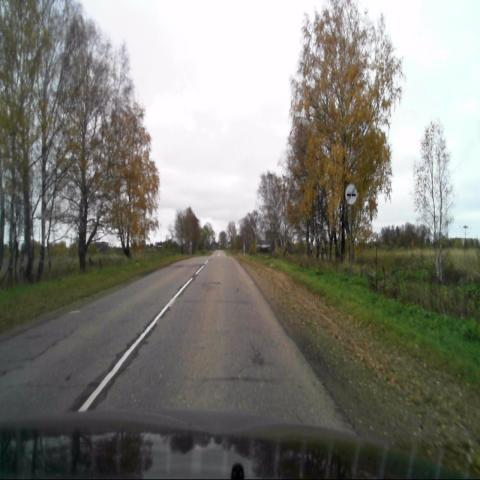3_21: (345, 183, 357, 206)
